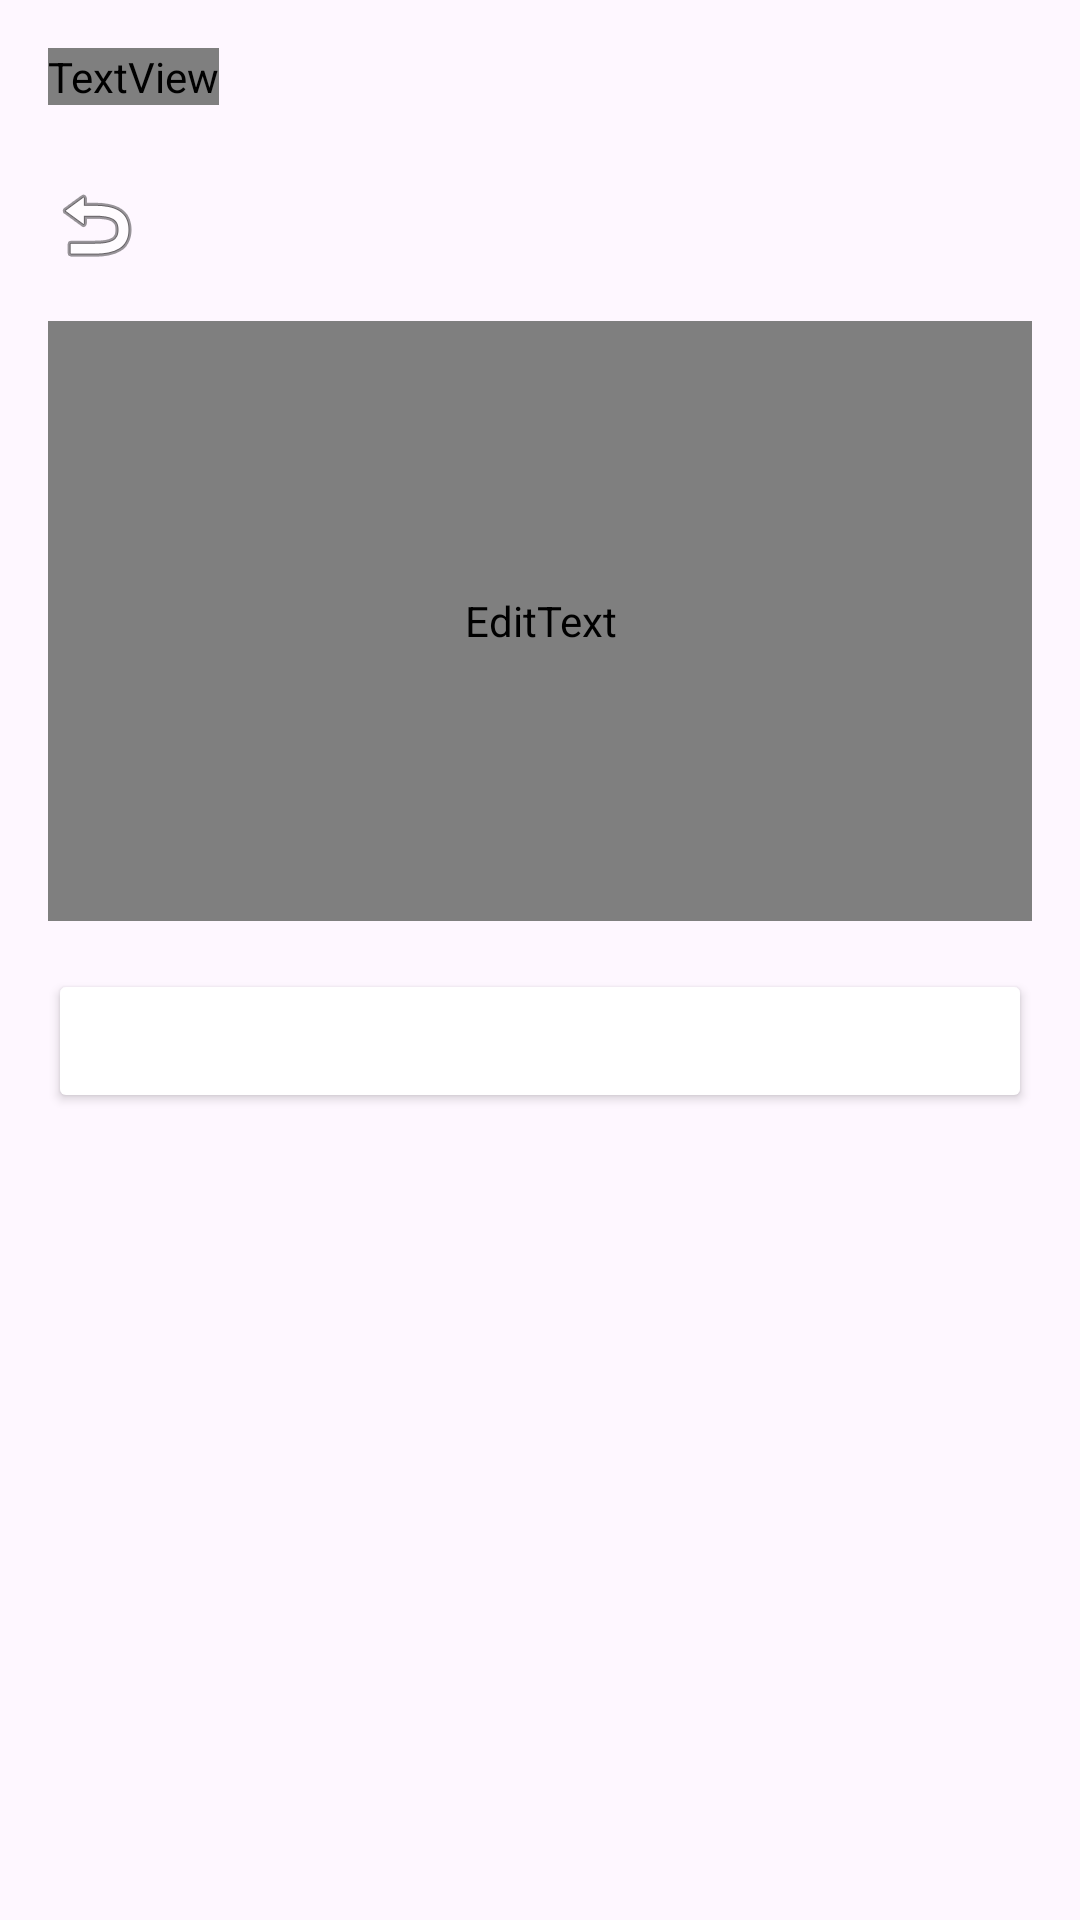

Screen size 1080 × 1920. Icon name, then its box in pixels as (x1, y1, x2, y2):
返回设置: (63, 194, 132, 257)
